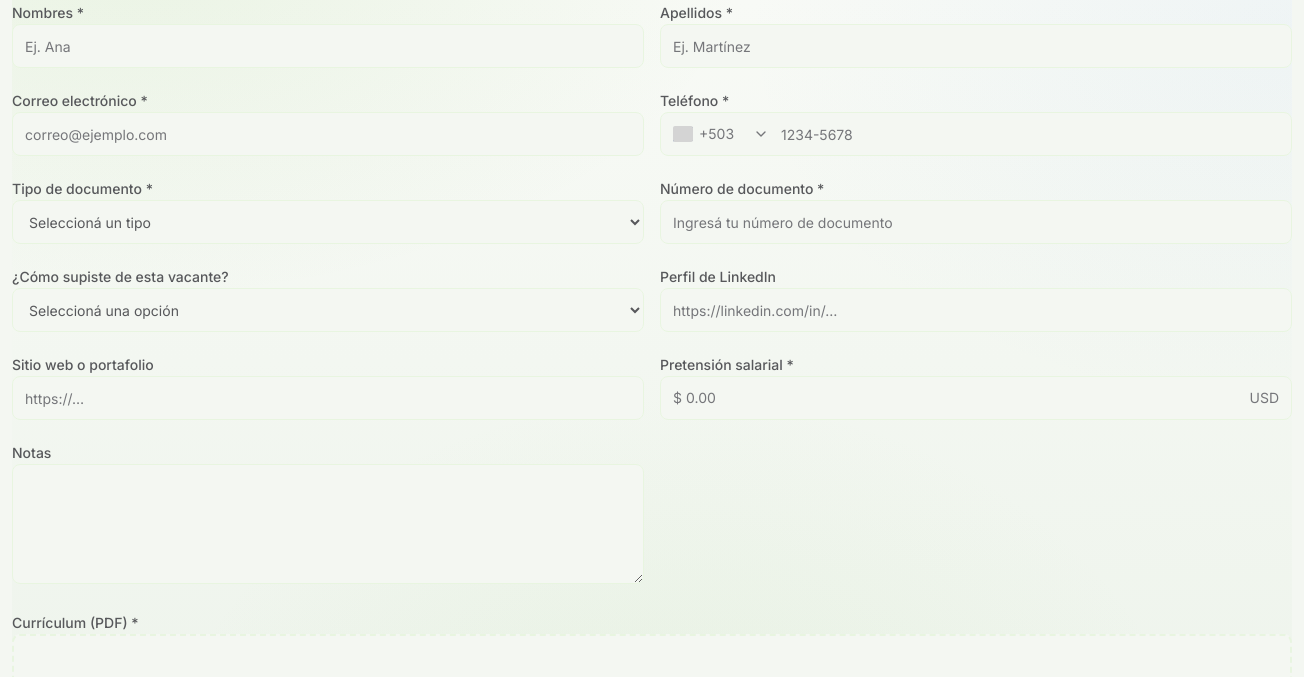
Test case: PublicVacancyApplicationForm › muestra la bandera del país junto al prefijo telefónico
This screenshot has width=1304, height=677.
Click the button named "Código de país: El Salvador". click: x=719, y=134
box: left=661, top=113, right=777, bottom=155
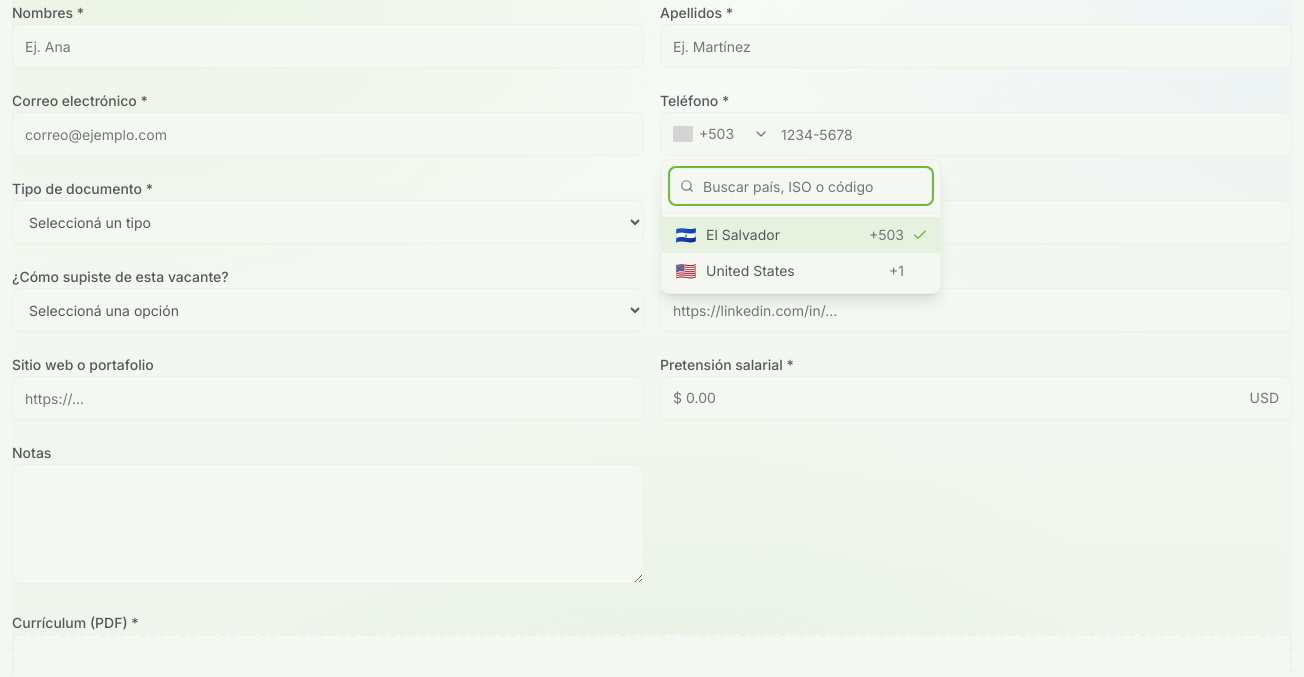
Now the option "🇸🇻 El Salvador +503" is shown, box left=662, top=217, right=940, bottom=253
Now the option "🇺🇸 United States +1" is shown, box left=662, top=253, right=940, bottom=289
